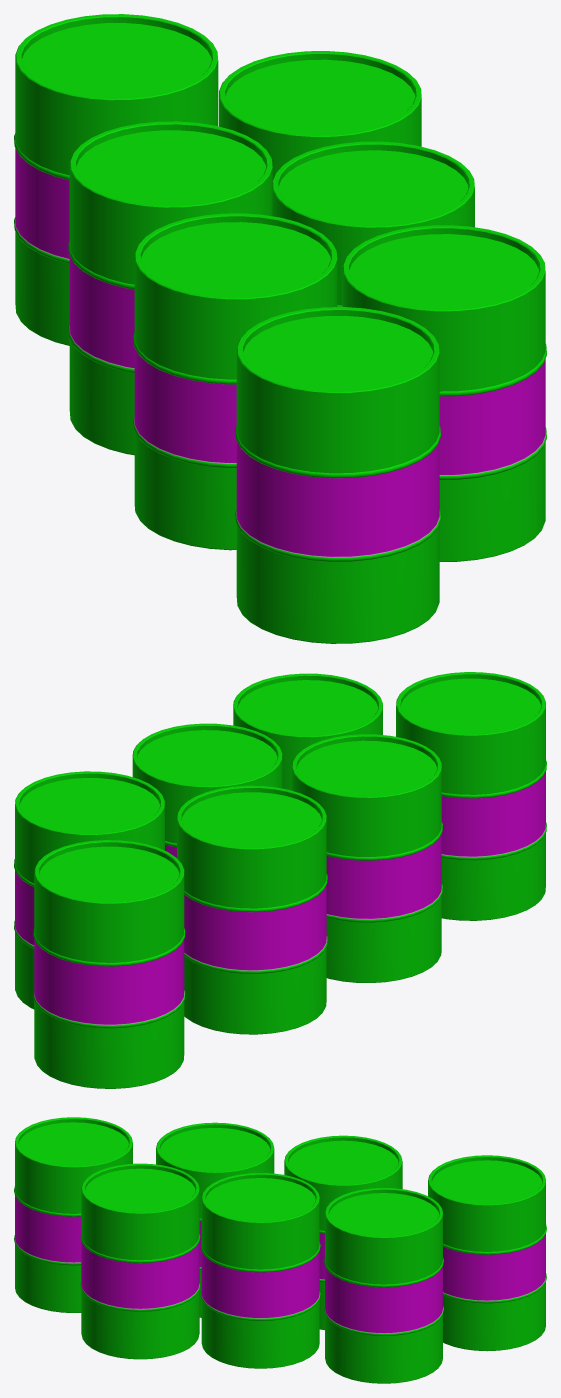
File: barrel.fbx
The picture shows the model from 3 angles, top to bottom: view 1: azimuth 30°, elevation 25°; view 2: azimuth 150°, elevation 25°; view 3: azimuth 270°, elevation 25°; orthographic projection. The views are drawn at different scales.
Visible parts, largest first — view 1: barrel_03, barrel_05, barrel_04, barrel_02, barrel_00, barrel_01, barrel_06; view 2: barrel_00, barrel_02, barrel_05, barrel_03, barrel_01, barrel_06, barrel_04; view 3: barrel_04, barrel_06, barrel_01, barrel_00, barrel_03, barrel_02, barrel_05.
Boxes of the visible parts, x1,y1,x2,y2 form: barrel_03: [235, 307, 440, 643]; barrel_05: [133, 213, 337, 550]; barrel_04: [342, 225, 546, 561]; barrel_02: [68, 121, 272, 455]; barrel_00: [14, 14, 218, 345]; barrel_01: [219, 51, 421, 179]; barrel_06: [272, 141, 474, 306]; barrel_00: [33, 840, 185, 1088]; barrel_02: [177, 785, 327, 1034]; barrel_05: [292, 734, 442, 982]; barrel_03: [396, 672, 546, 920]; barrel_01: [14, 771, 164, 1009]; barrel_06: [132, 723, 282, 857]; barrel_04: [233, 673, 382, 790]; barrel_04: [80, 1163, 200, 1359]; barrel_06: [201, 1173, 320, 1368]; barrel_01: [324, 1188, 443, 1383]; barrel_00: [428, 1155, 546, 1351]; barrel_03: [14, 1117, 132, 1312]; barrel_02: [284, 1135, 402, 1329]; barrel_05: [156, 1122, 274, 1317].
Size of the model in its own units: 1.39 by 0.7848 by 2.58.
